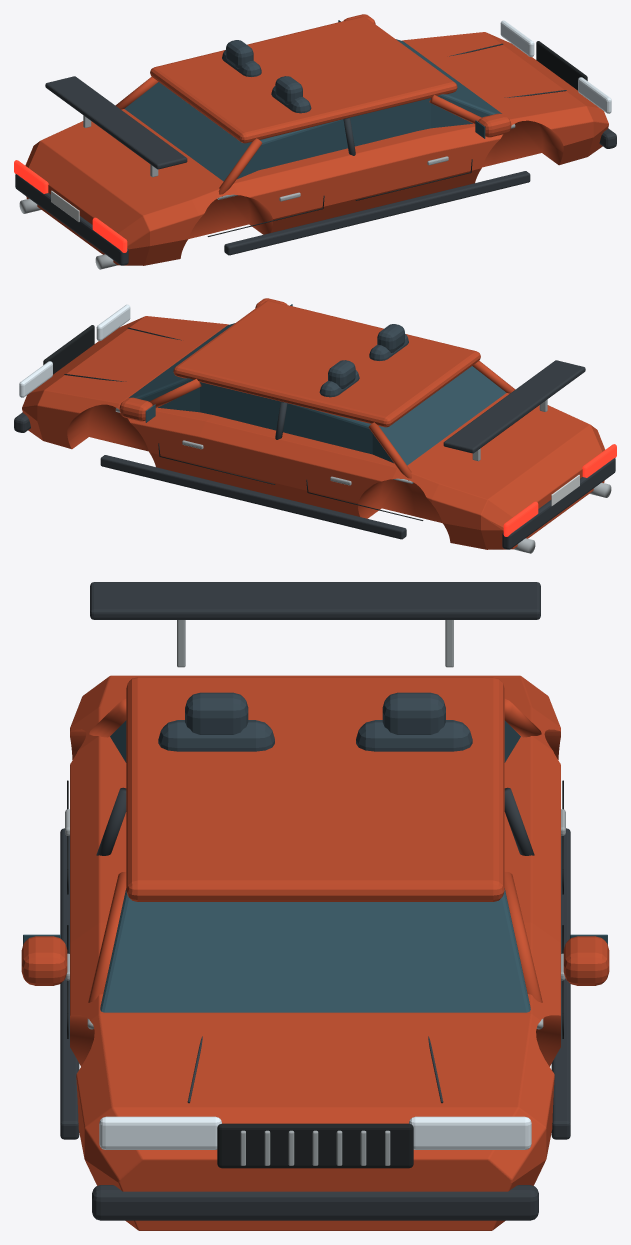
Rendered from SM_Sport.fbx.
3 views of the same model, one above another, from view 1: azimuth 30°, elevation 25°; view 2: azimuth 150°, elevation 25°; view 3: azimuth 270°, elevation 25° (orthographic). The views are drawn at different scales.
Parts seen in each view (by area): view 1: SM_Sport; view 2: SM_Sport; view 3: SM_Sport.
Part boxes in pixels (bbox=[...]): SM_Sport: bbox=[14, 14, 616, 269]; SM_Sport: bbox=[14, 298, 616, 553]; SM_Sport: bbox=[21, 582, 609, 1230].
Bounding box in the file's own units: 460 × 232 × 113.
